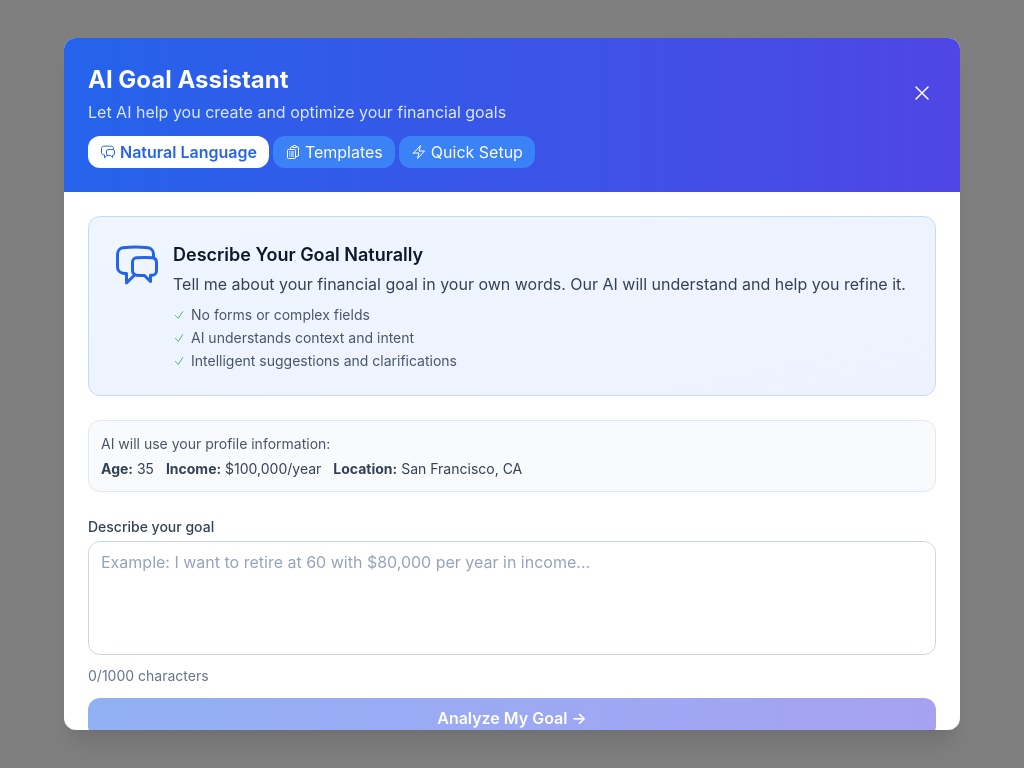
Test case: AIGoalAssistant › parses natural language input successfully
Replace the text in the text box with placeholder "Example: I want to retire" with "I want to retire at 60 with $80,000 per year" at (512, 598), box [88,541,936,655]
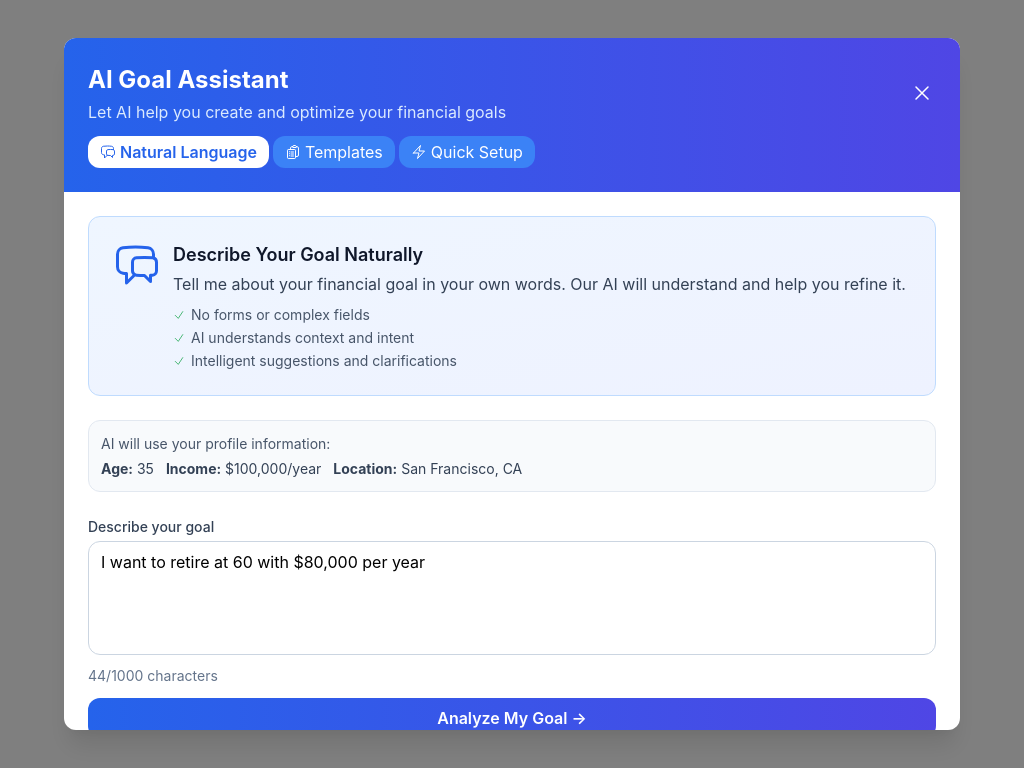
Click the button "Analyze My Goal →".
click(512, 718)  # box [88,698,936,738]
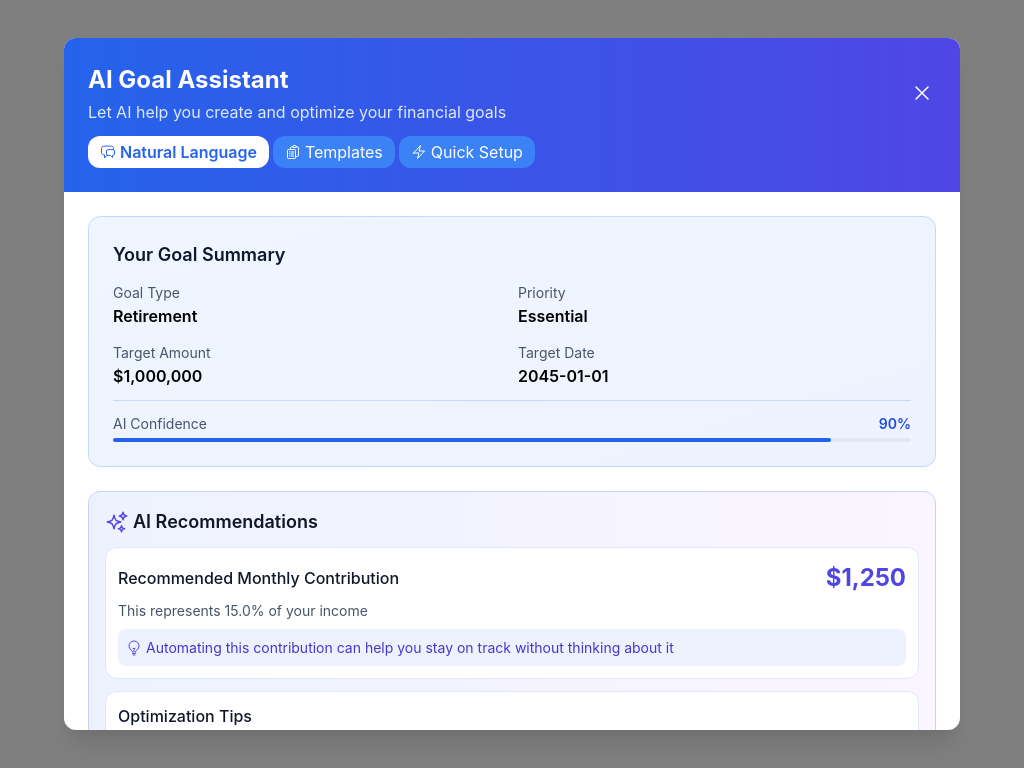
Check: the heading "Your Goal Summary" is shown, box [113,244,285,265]
